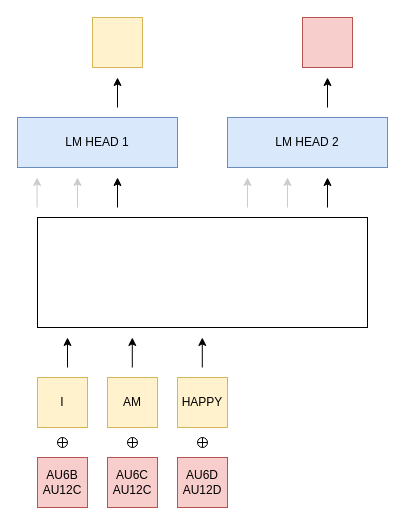
Some shapes in this 405 by 525 pixel diagram are drawn without their labels. The shapes that lost their labels are listed below. From the top down, each one's box as (x1, y1, x2, y2) in pixels, then its label:
(92, 16, 142, 68): BUT
(302, 16, 352, 68): AU1C AU5C
(36, 216, 368, 328): DECODER
